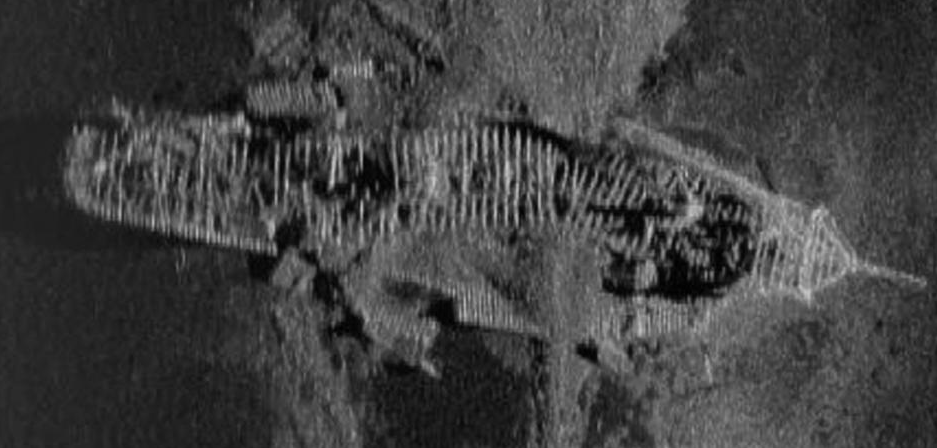ship: (50, 95, 937, 337)
